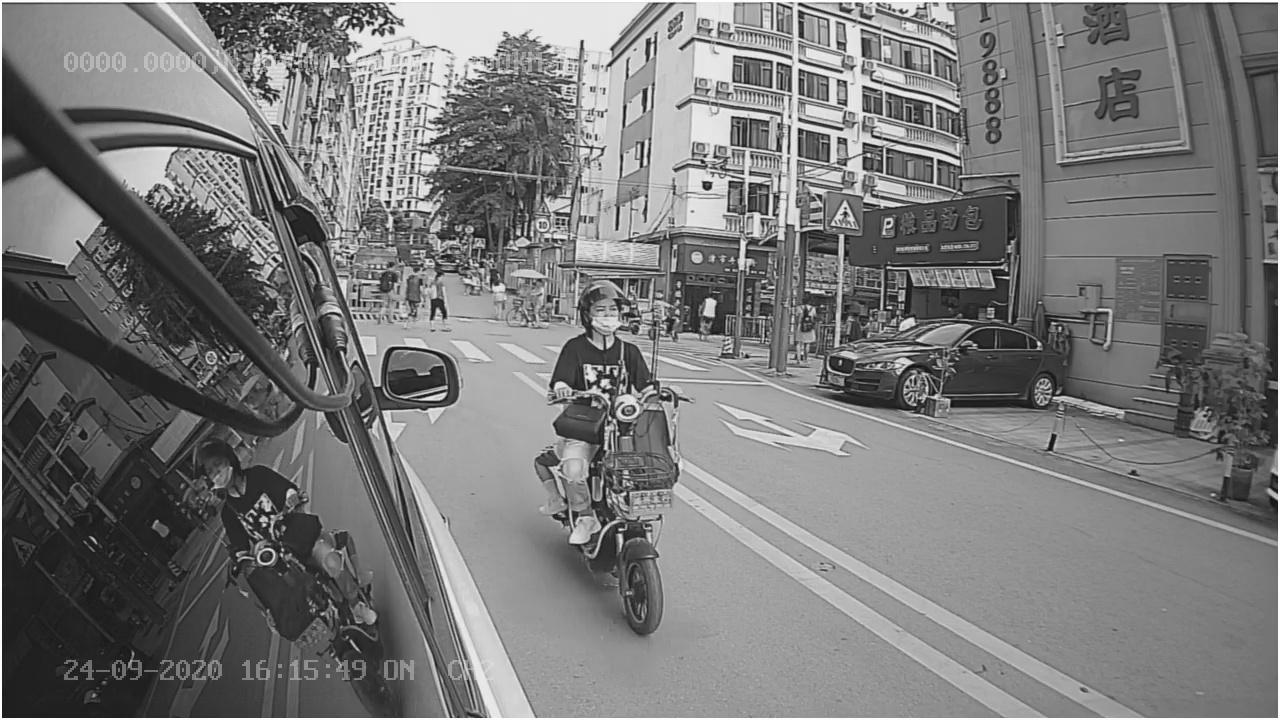person: (518, 272, 682, 628)
